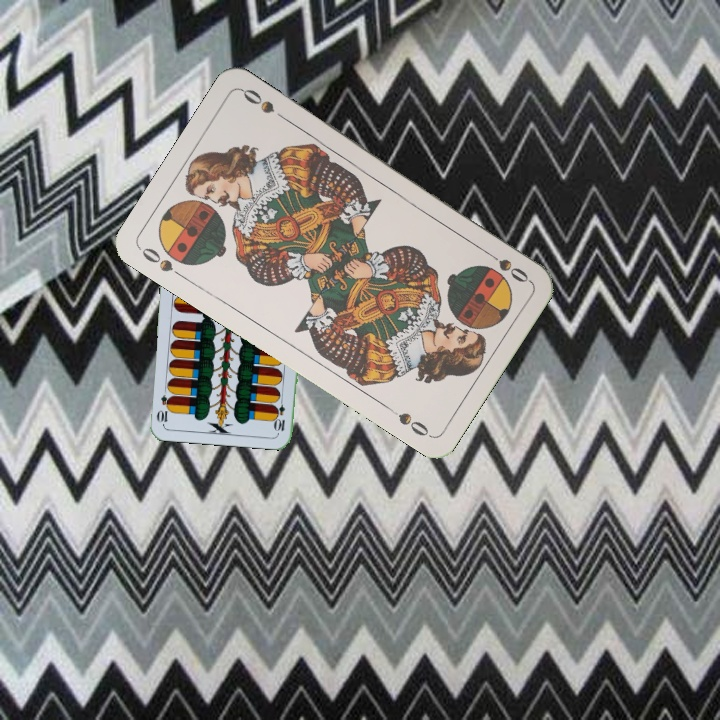E10: (273, 393, 288, 434)
SO: (480, 245, 532, 286), (137, 243, 188, 282)
